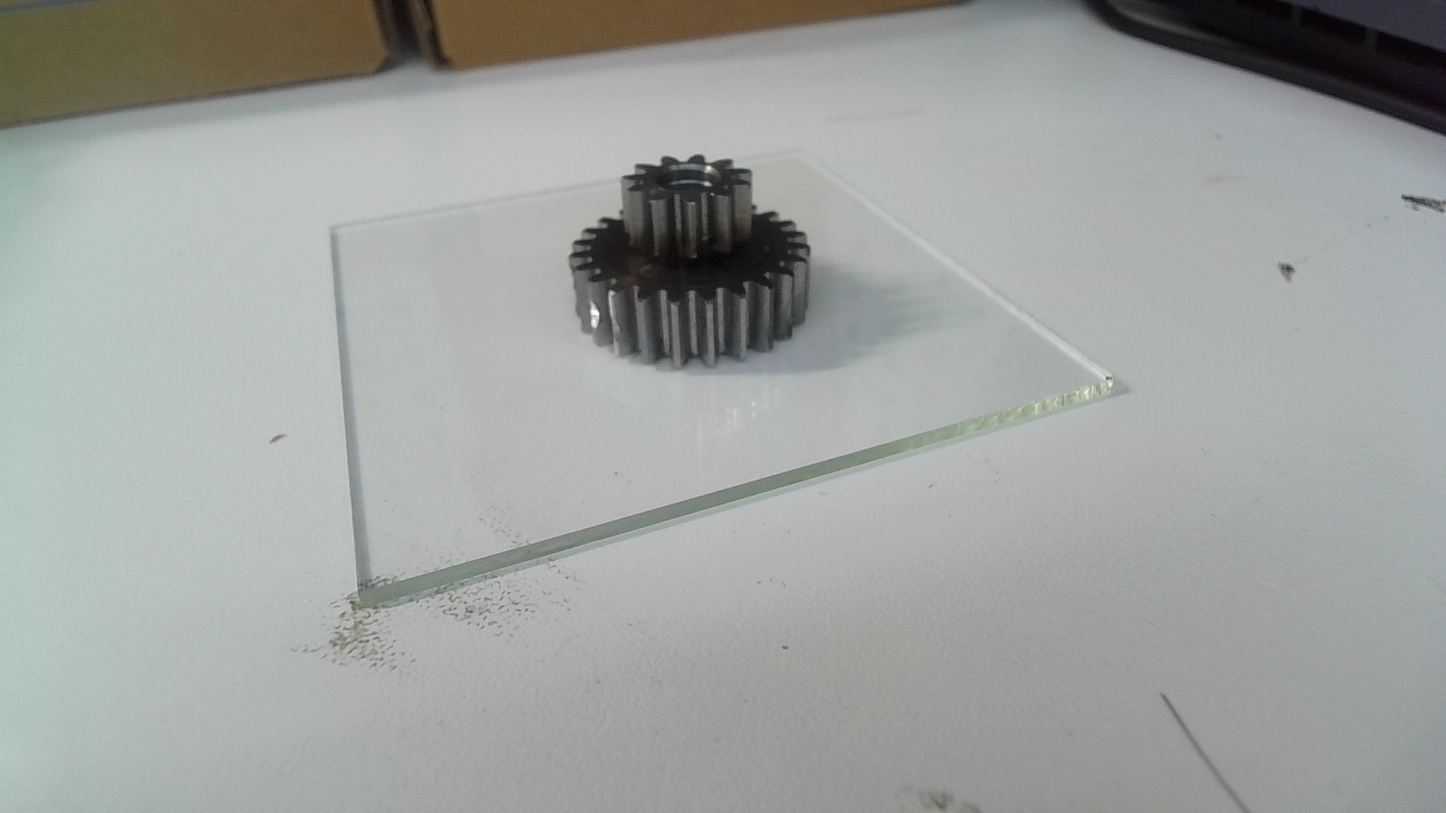gear: (564, 150, 815, 375)
